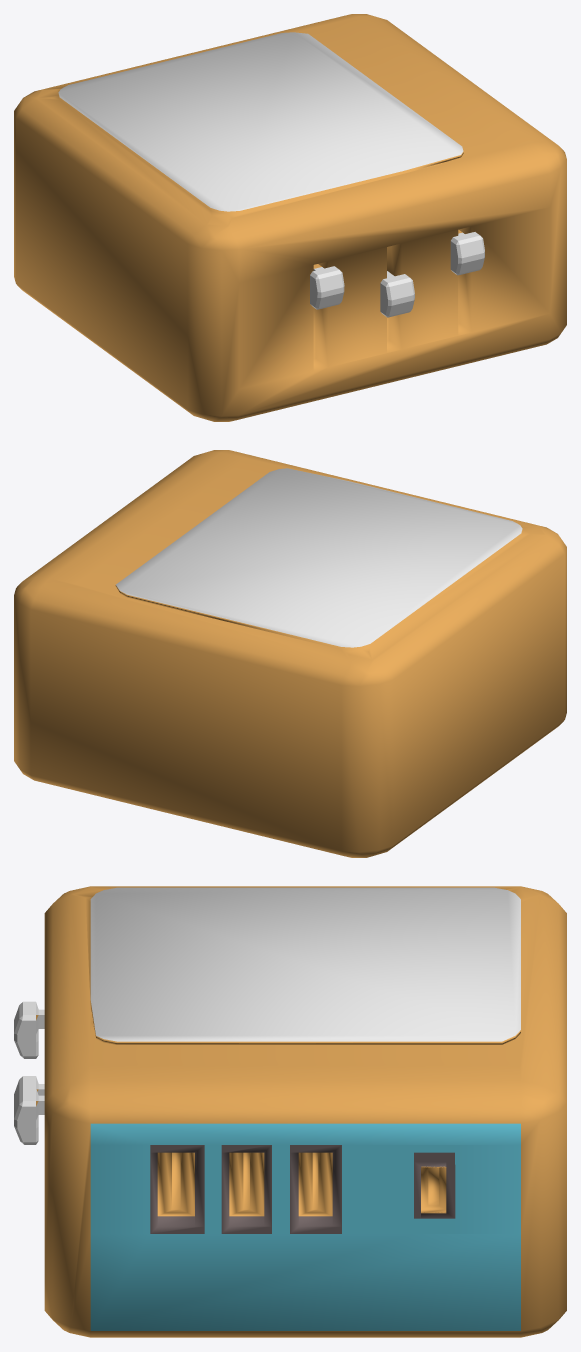
Rendered from audioBox.glb.
The picture shows the model from 3 angles, top to bottom: view 1: azimuth 30°, elevation 25°; view 2: azimuth 150°, elevation 25°; view 3: azimuth 270°, elevation 25°; orthographic projection. The views are drawn at different scales.
Parts seen in each view (by area): view 1: Cube.003; view 2: Cube.003; view 3: Cube.003.
Part boxes in pixels (box(x1,y1,x2,y2)): Cube.003: box(14, 14, 566, 421); Cube.003: box(14, 450, 566, 857); Cube.003: box(14, 886, 566, 1337).
Size of the model in its own units: 2.33 by 1.2 by 2.36.
